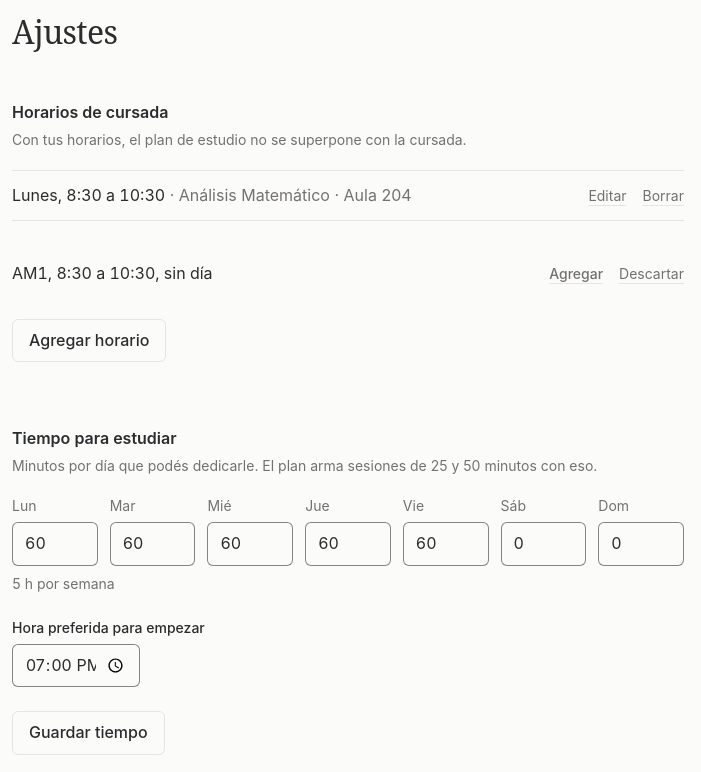
it: Ajustes › Ajustes guarda la disponibilidad
Replace the text in the number field named "Minutos el sábado" with "120": (543, 544) [501,522,586,566]
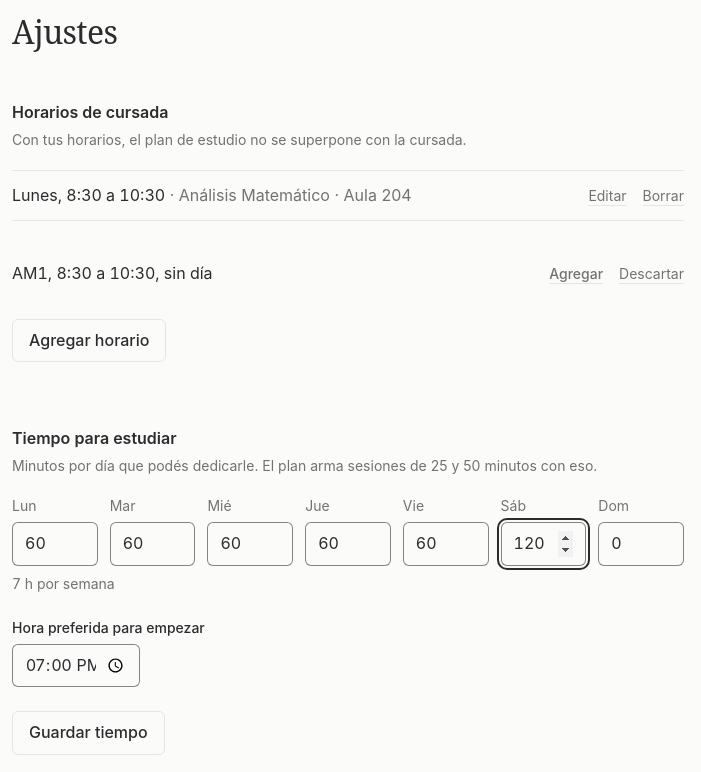
Replace the text in the time field labelled "Hora preferida para empezar" with "18:30": (76, 665) [12,644,140,687]
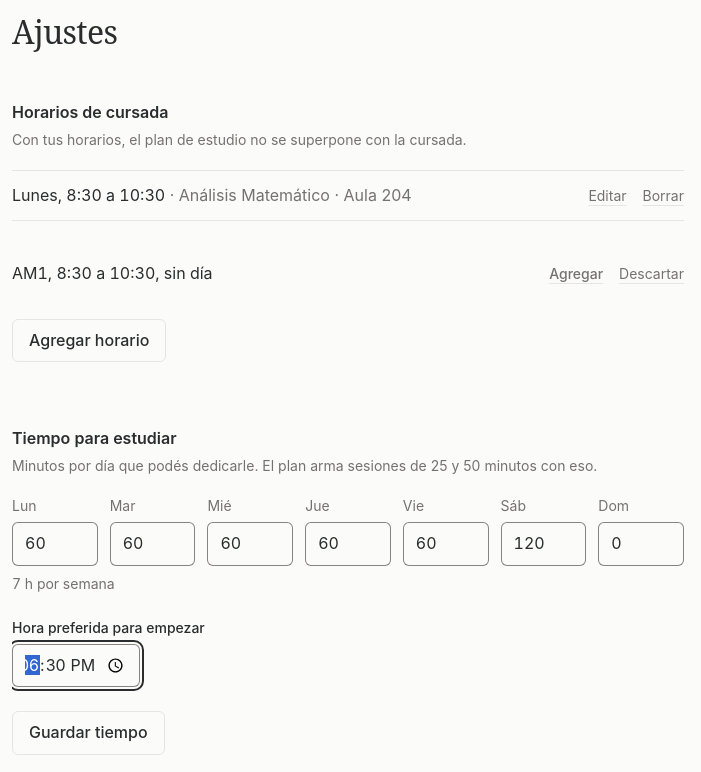
Click the button "Guardar tiempo": (88, 733) [12,711,165,755]
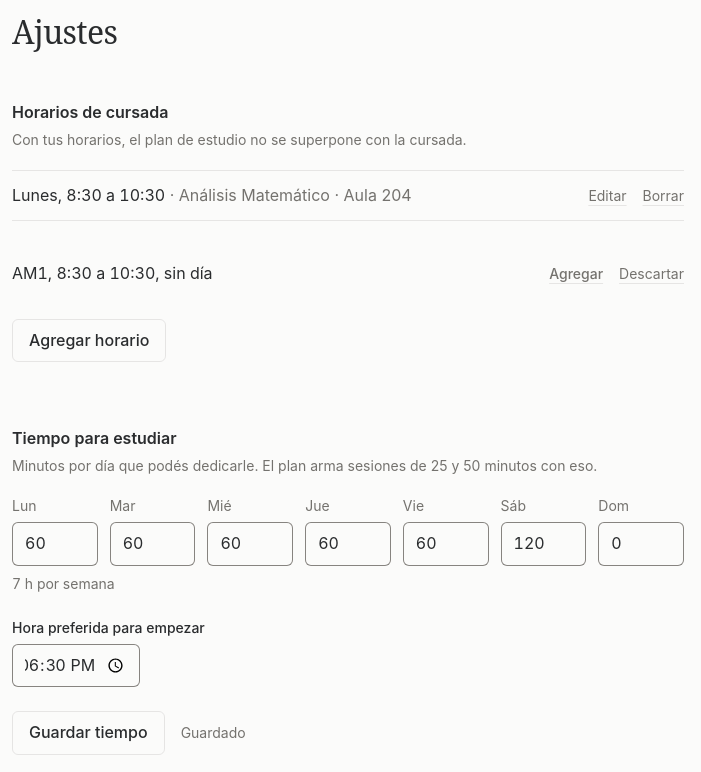
Now the text "Guardado" is shown, box [181,723,246,743]
